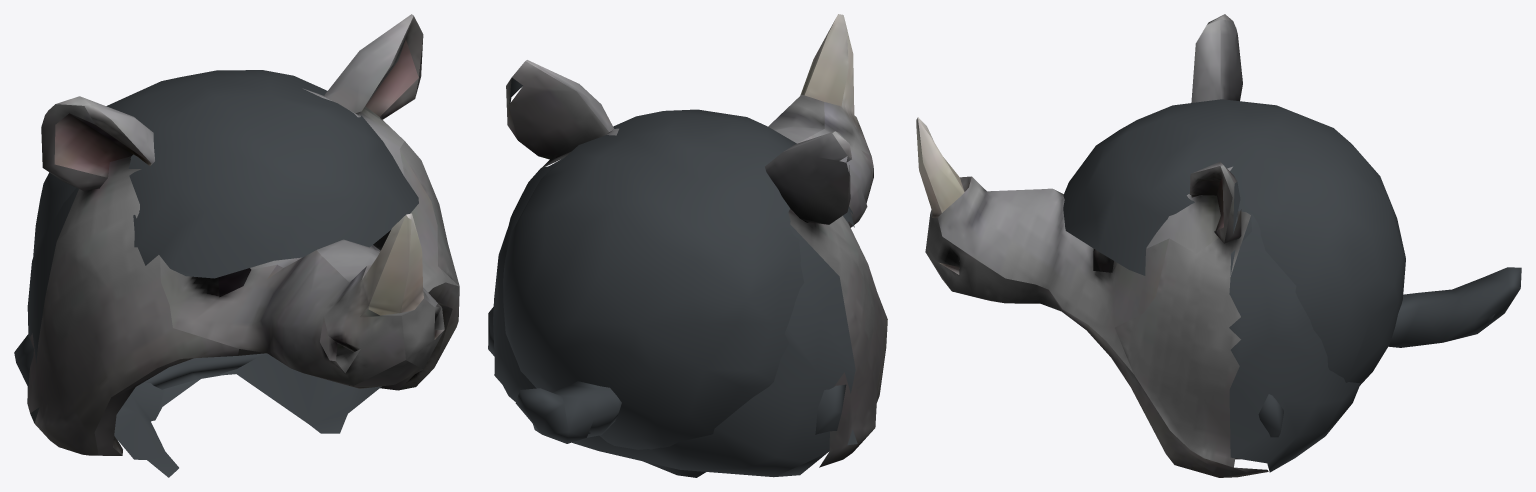
File: rhino.glb
The picture shows the model from 3 angles, left to right: view 1: azimuth 30°, elevation 25°; view 2: azimuth 150°, elevation 25°; view 3: azimuth 270°, elevation 25°; orthographic projection. The views are drawn at different scales.
Visible parts, largest first — view 1: geometry_0, HoodAnatomicalLining; view 2: HoodAnatomicalLining, geometry_0; view 3: geometry_0, HoodAnatomicalLining.
Part boxes in pixels (x1,y1,x2,y2): geometry_0: (27, 14, 459, 455); HoodAnatomicalLining: (14, 70, 418, 477); HoodAnatomicalLining: (488, 109, 854, 477); geometry_0: (493, 14, 887, 477); geometry_0: (916, 14, 1521, 477); HoodAnatomicalLining: (1063, 99, 1405, 437).
Size of the model in its own units: 0.4795 by 0.4435 by 0.7065.
2 materials, 1 textured.
